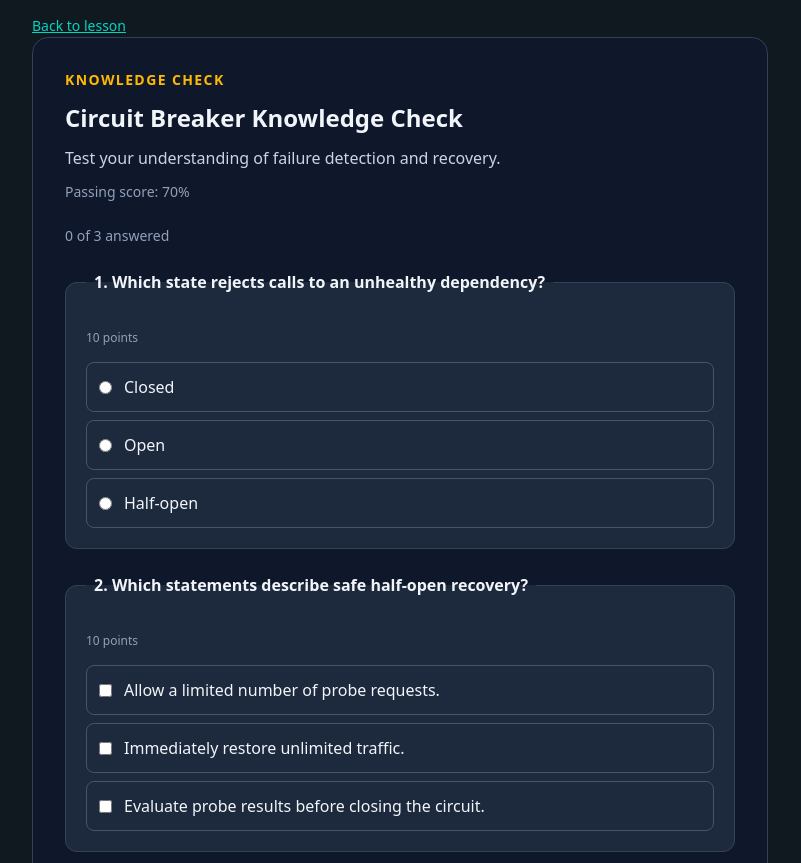
Test: LearningRoutes › returns from quiz to lesson
This screenshot has width=801, height=863.
Click the link "Back to lesson" at (79, 26), box [32,16,126,35]
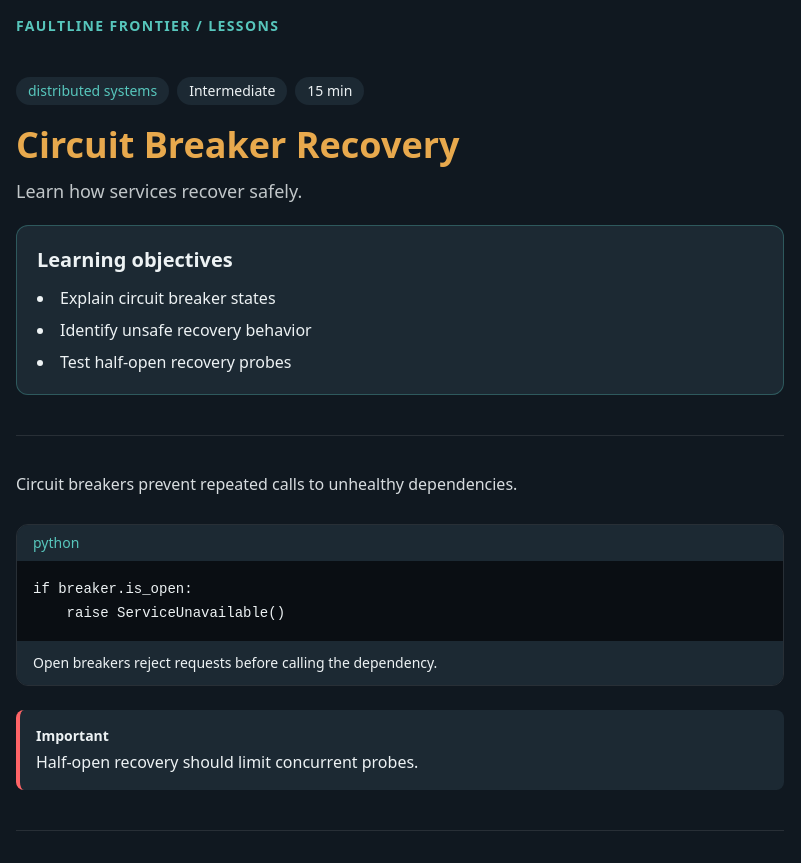
Check: the heading "Circuit Breaker Recovery" is shown, box [16,120,460,169]
